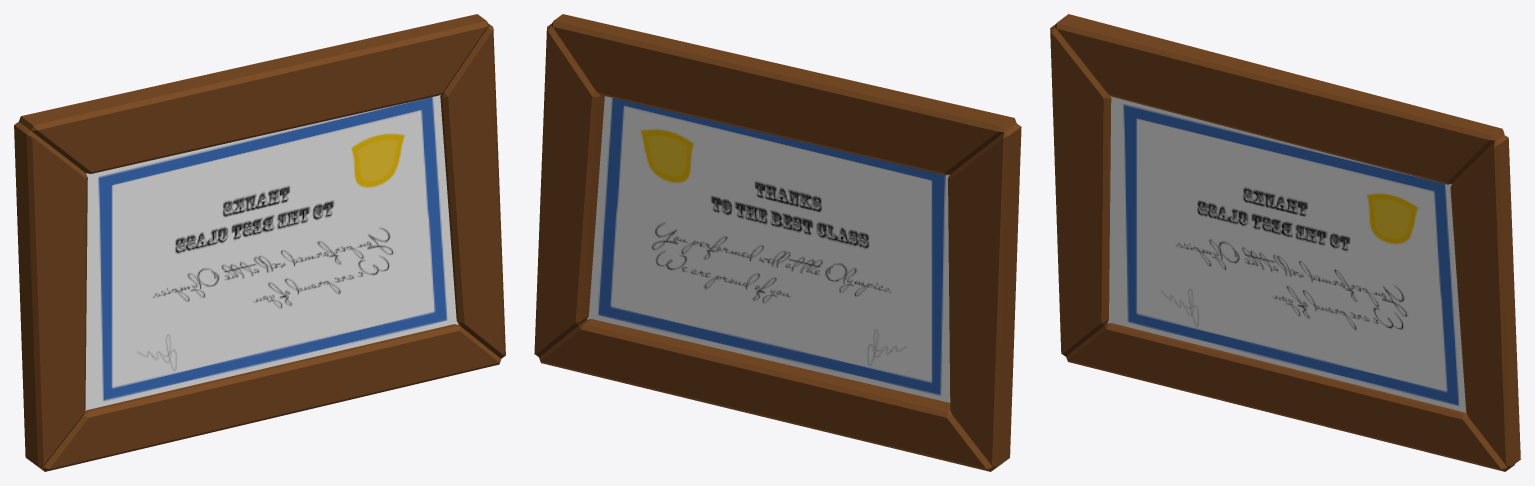
File: Picture3.fbx
3 views of the same model, side by side, from view 1: azimuth 30°, elevation 25°; view 2: azimuth 150°, elevation 25°; view 3: azimuth 330°, elevation 25° (orthographic). The views are drawn at different scales.
Parts seen in each view (by area): view 1: Picture3; view 2: Picture3; view 3: Picture3.
Boxes of the visible parts, x1,y1,x2,y2 form: Picture3: [14, 14, 505, 471]; Picture3: [534, 14, 1021, 471]; Picture3: [1050, 14, 1520, 471].
Size of the model in its own units: 0.5548 by 0.3903 by 0.0335.
